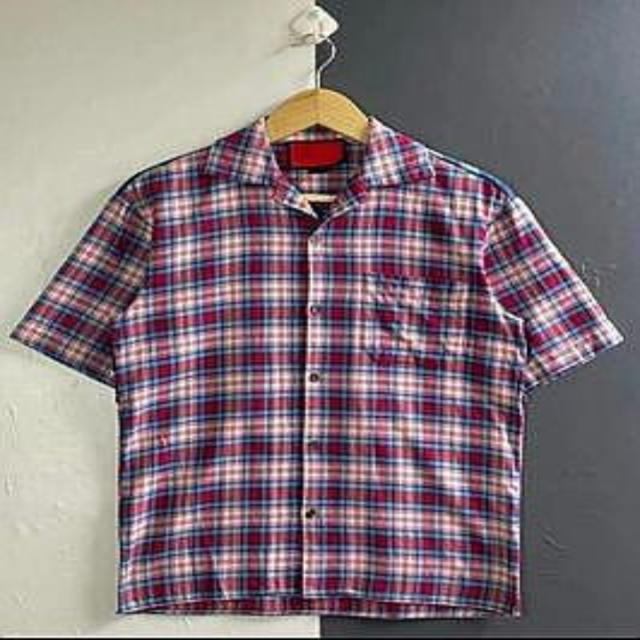SHIRT: (2, 101, 640, 627)
